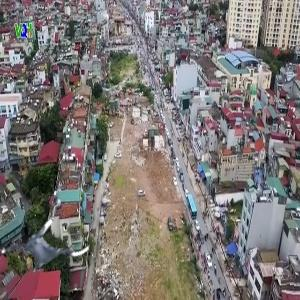drone: (10, 207, 90, 287)
